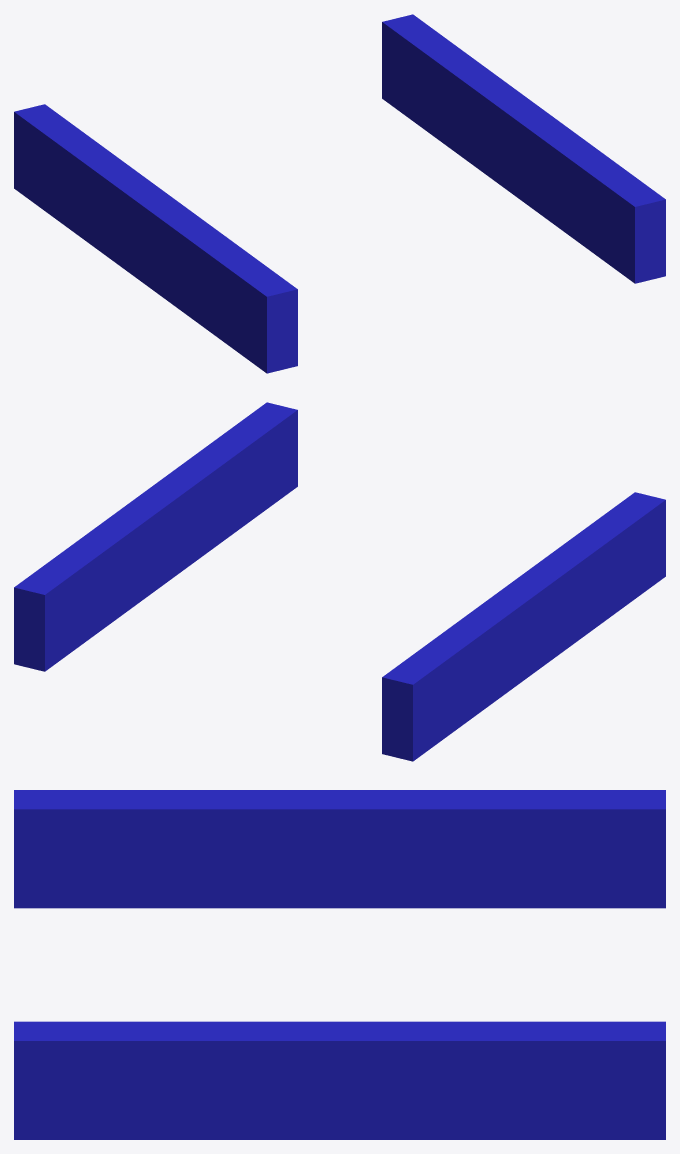
The model's file is M_SmallRopeTrap.fbx.
The picture shows the model from 3 angles, top to bottom: view 1: azimuth 30°, elevation 25°; view 2: azimuth 150°, elevation 25°; view 3: azimuth 270°, elevation 25°; orthographic projection. The views are drawn at different scales.
Parts seen in each view (by area): view 1: RopeTrapSmall; view 2: RopeTrapSmall; view 3: RopeTrapSmall.
Boxes of the visible parts, bbox=[...] form: RopeTrapSmall: bbox=[14, 14, 665, 373]; RopeTrapSmall: bbox=[14, 402, 665, 761]; RopeTrapSmall: bbox=[14, 790, 665, 1139].
Bounding box in the file's own units: 182 × 33.5 × 200.
